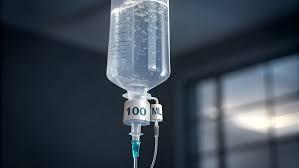Iv_Bottle: (106, 0, 169, 98)
